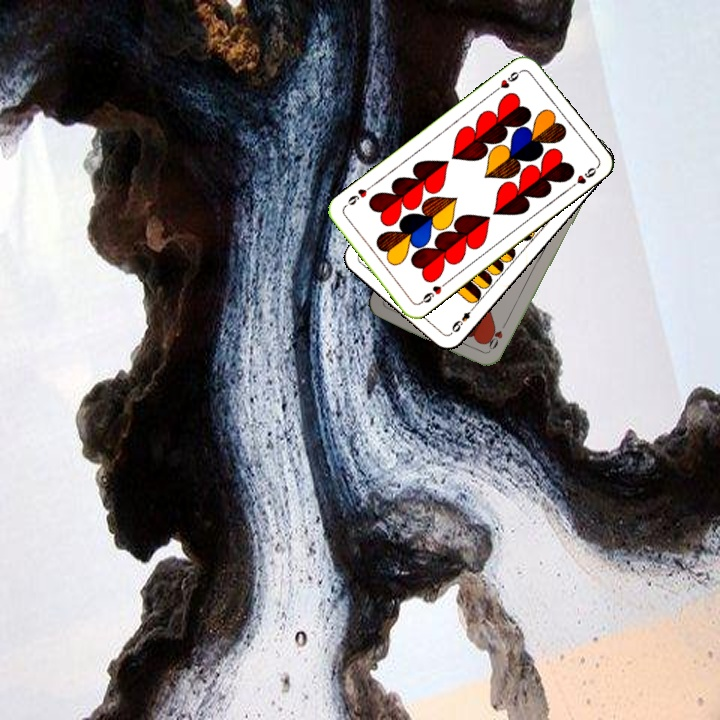E9: (448, 302, 478, 335)
H9: (415, 278, 450, 307), (490, 66, 525, 95)
HO: (484, 317, 509, 355)
